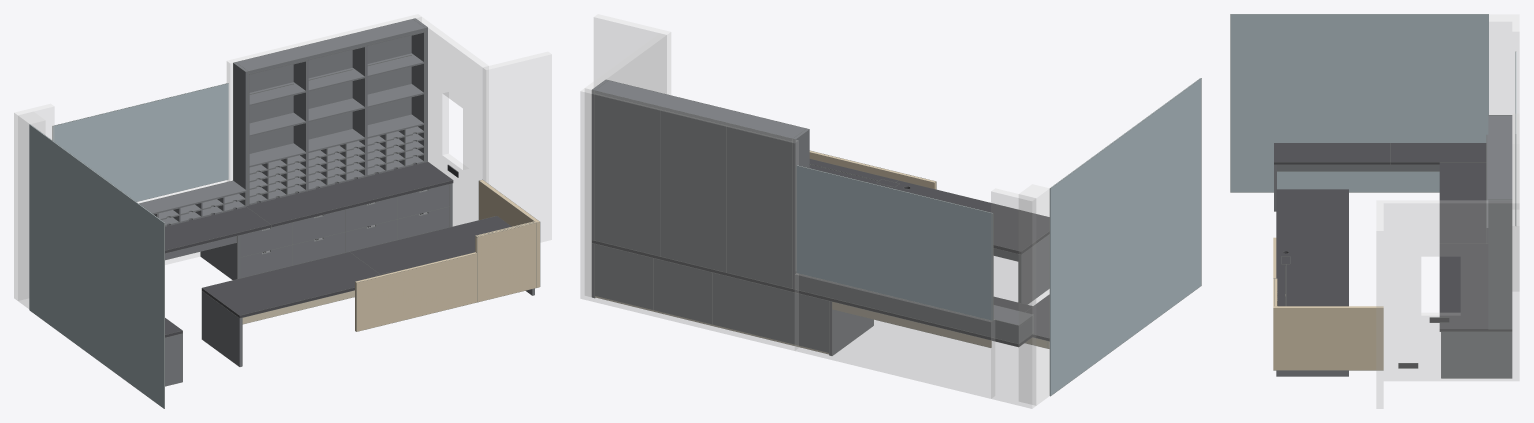
Rendered from modell.glb.
3 views of the same model, side by side, from view 1: azimuth 30°, elevation 25°; view 2: azimuth 150°, elevation 25°; view 3: azimuth 270°, elevation 25° (orthographic). The views are drawn at different scales.
Size of the model in its own units: 7079 by 2711 by 3986.
